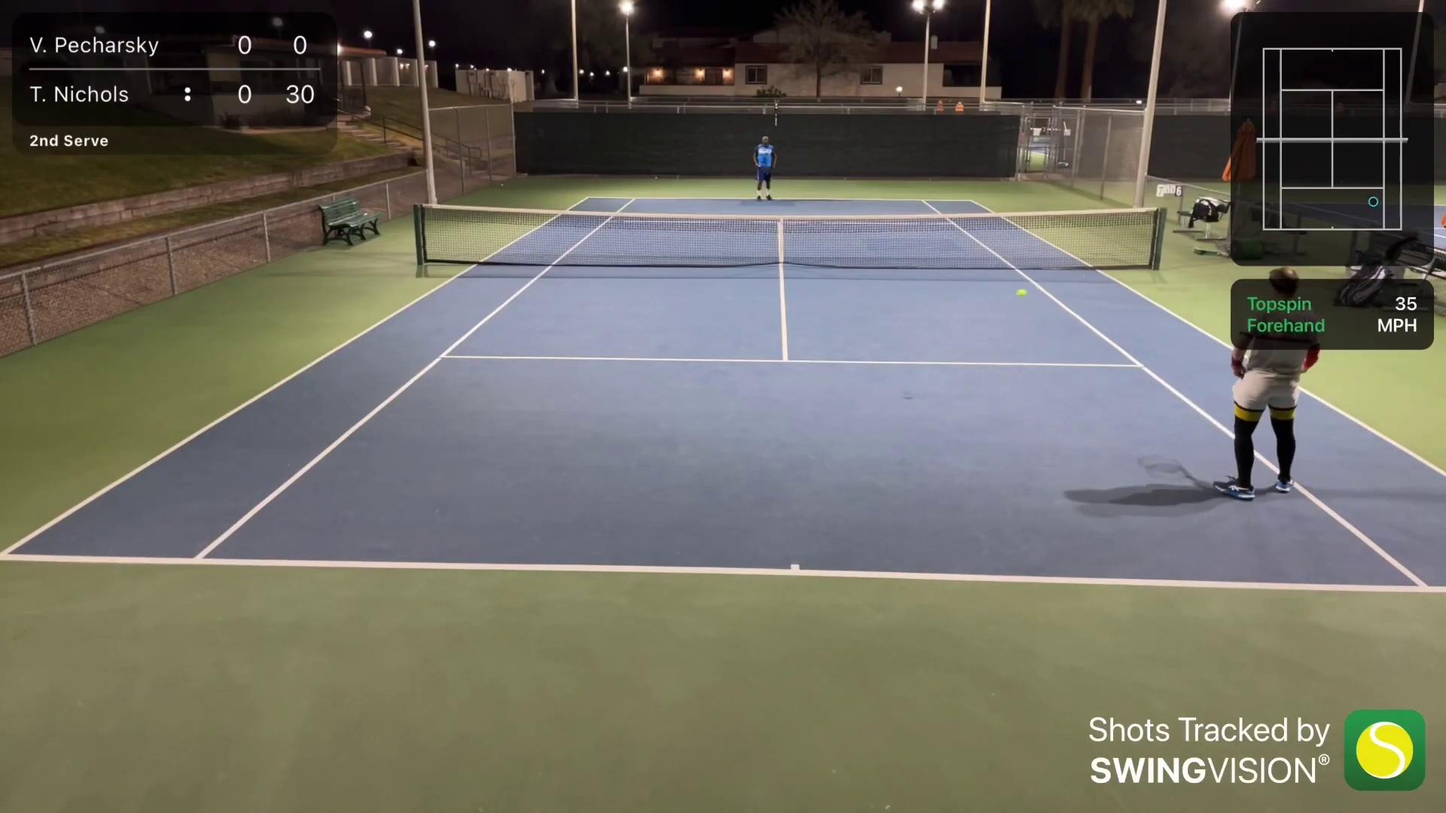ball: (1016, 285, 1030, 300), (1035, 137, 1039, 141)
